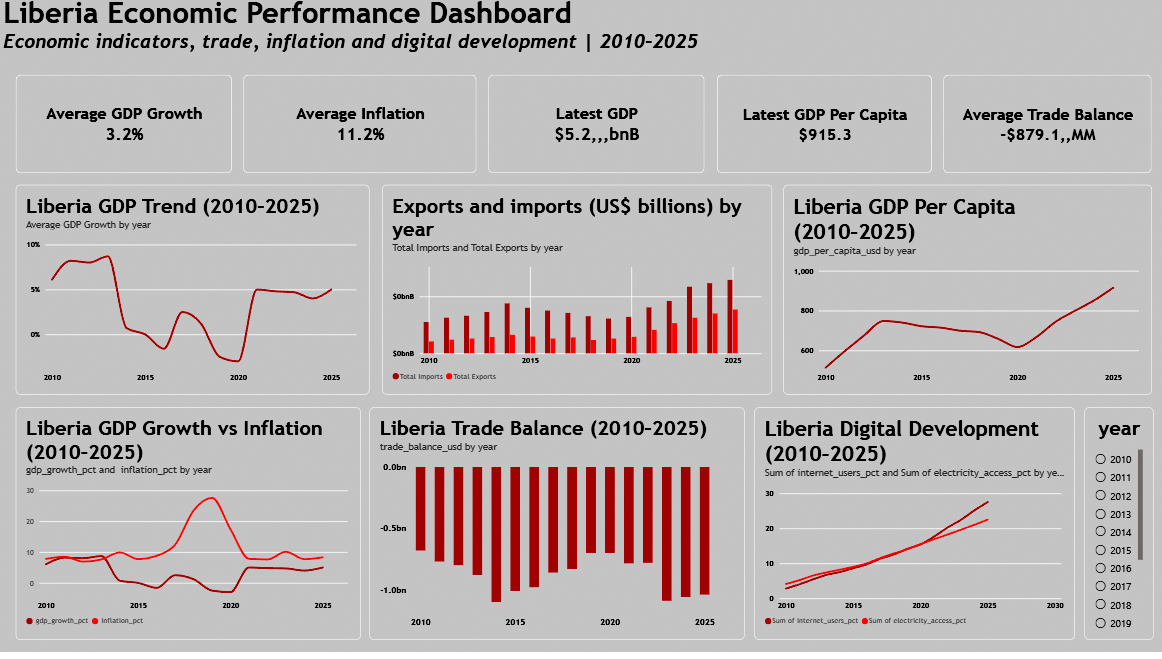

The dashboard page shown, as its layout file describes it:
{"tool":"powerbi","page":{"name":"Page 1","canvas":[1920,1080],"ordinal":0},"visuals":[{"type":"cardVisual","fields":{"Data":["liberia_economic_analysis.Average GDP Growth"]},"box":[30.9,129.7,356.1,162.6],"z":7},{"type":"cardVisual","fields":{"Data":["liberia_economic_analysis.Average Trade Balance"]},"box":[1558.2,129.7,343.7,162.6],"z":10},{"type":"cardVisual","fields":{"Data":["liberia_economic_analysis.Latest GDP Per Capita"]},"box":[1185.6,129.7,354,162.6],"z":11},{"type":"cardVisual","fields":{"Data":["liberia_economic_analysis.Latest GDP"]},"box":[808.9,129.7,356.1,162.6],"z":12},{"type":"textbox","box":[10.3,0,1206.2,107],"z":13},{"type":"lineChart","title":"Liberia GDP Trend (2010–2025)","fields":{"Category":["liberia_economic_analysis.year"],"Y":["liberia_economic_analysis.Average GDP Growth"]},"box":[30.9,310.8,582.5,345.8],"z":14},{"type":"clusteredColumnChart","title":"Exports and imports (US$ billions) by year","fields":{"Category":["liberia_economic_analysis.year"],"Y":["liberia_economic_analysis.Total Imports","liberia_economic_analysis.Total Exports"]},"box":[634,310.8,642.2,345.8],"z":16},{"type":"lineChart","title":"Liberia GDP Growth vs Inflation (2010–2025)","fields":{"Category":["liberia_economic_analysis.year"],"Y":["Sum(liberia_economic_analysis.gdp_growth_pct)","Sum(liberia_economic_analysis.inflation_pct)"]},"box":[30.9,677.2,568.1,382.8],"z":17},{"type":"columnChart","title":"Liberia Trade Balance (2010–2025)","fields":{"Category":["liberia_economic_analysis.year"],"Y":["Sum(liberia_economic_analysis.trade_balance_usd)"]},"box":[613.4,677.2,617.5,382.8],"z":18},{"type":"cardVisual","fields":{"Data":["liberia_economic_analysis.Average Inflation"]},"box":[405.5,129.7,384.9,162.6],"z":20},{"type":"lineChart","title":"Liberia GDP Per Capita (2010–2025)","fields":{"Category":["liberia_economic_analysis.year"],"Y":["Sum(liberia_economic_analysis.gdp_per_capita_usd)"]},"box":[1294.7,310.8,607.2,345.8],"z":21},{"type":"listSlicer","fields":{"Values":["liberia_economic_analysis.year"]},"box":[1790.7,677.2,113.2,382.8],"z":22},{"type":"lineChart","title":"Liberia Digital Development (2010–2025)","fields":{"Category":["liberia_economic_analysis.year"],"Y":["Sum(liberia_economic_analysis.internet_users_pct)","Sum(liberia_economic_analysis.electricity_access_pct)"]},"box":[1247.3,677.2,526.9,382.8],"z":23}]}

Visuals, with their boxes in screenshot pixels (x1, y1, x2, y2), scaled from the page's 1920x1080 canvas onto the 1162x659 screenshot:
cardVisual - liberia_economic_analysis.Average GDP Growth: rect(19, 79, 234, 178)
cardVisual - liberia_economic_analysis.Average Trade Balance: rect(943, 79, 1151, 178)
cardVisual - liberia_economic_analysis.Latest GDP Per Capita: rect(718, 79, 932, 178)
cardVisual - liberia_economic_analysis.Latest GDP: rect(490, 79, 705, 178)
textbox: rect(6, 0, 736, 65)
"Liberia GDP Trend (2010–2025)" lineChart: rect(19, 190, 371, 401)
"Exports and imports (US$ billions) by year" clusteredColumnChart: rect(384, 190, 772, 401)
"Liberia GDP Growth vs Inflation (2010–2025)" lineChart: rect(19, 413, 363, 647)
"Liberia Trade Balance (2010–2025)" columnChart: rect(371, 413, 745, 647)
cardVisual - liberia_economic_analysis.Average Inflation: rect(245, 79, 478, 178)
"Liberia GDP Per Capita (2010–2025)" lineChart: rect(784, 190, 1151, 401)
listSlicer - liberia_economic_analysis.year: rect(1084, 413, 1152, 647)
"Liberia Digital Development (2010–2025)" lineChart: rect(755, 413, 1074, 647)
